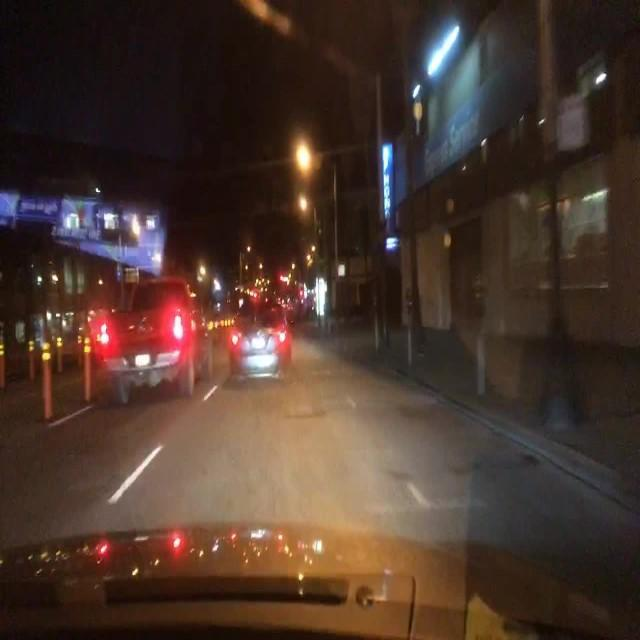normal: (80, 283, 206, 411), (193, 276, 306, 396)
